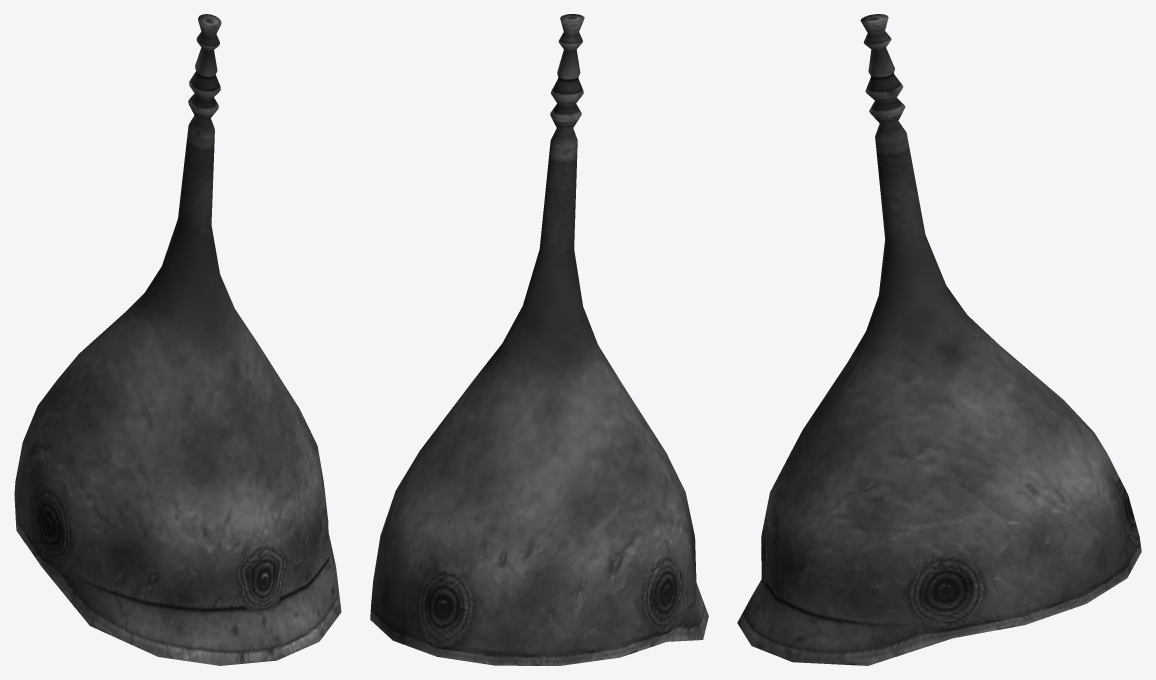
Rendered from helm_celt_helmet_berru_03.glb.
The picture shows the model from 3 angles, left to right: view 1: azimuth 30°, elevation 25°; view 2: azimuth 150°, elevation 25°; view 3: azimuth 270°, elevation 25°; orthographic projection. The views are drawn at different scales.
Visible parts, largest first — view 1: helm_celt_helmet_berru_03_part0; view 2: helm_celt_helmet_berru_03_part0; view 3: helm_celt_helmet_berru_03_part0.
Boxes of the visible parts, x1,y1,x2,y2 form: helm_celt_helmet_berru_03_part0: (14, 14, 341, 665); helm_celt_helmet_berru_03_part0: (370, 14, 708, 665); helm_celt_helmet_berru_03_part0: (737, 14, 1141, 665).
Size of the model in its own units: 0.4409 by 0.962 by 0.5826.
1 material, 1 textured.
